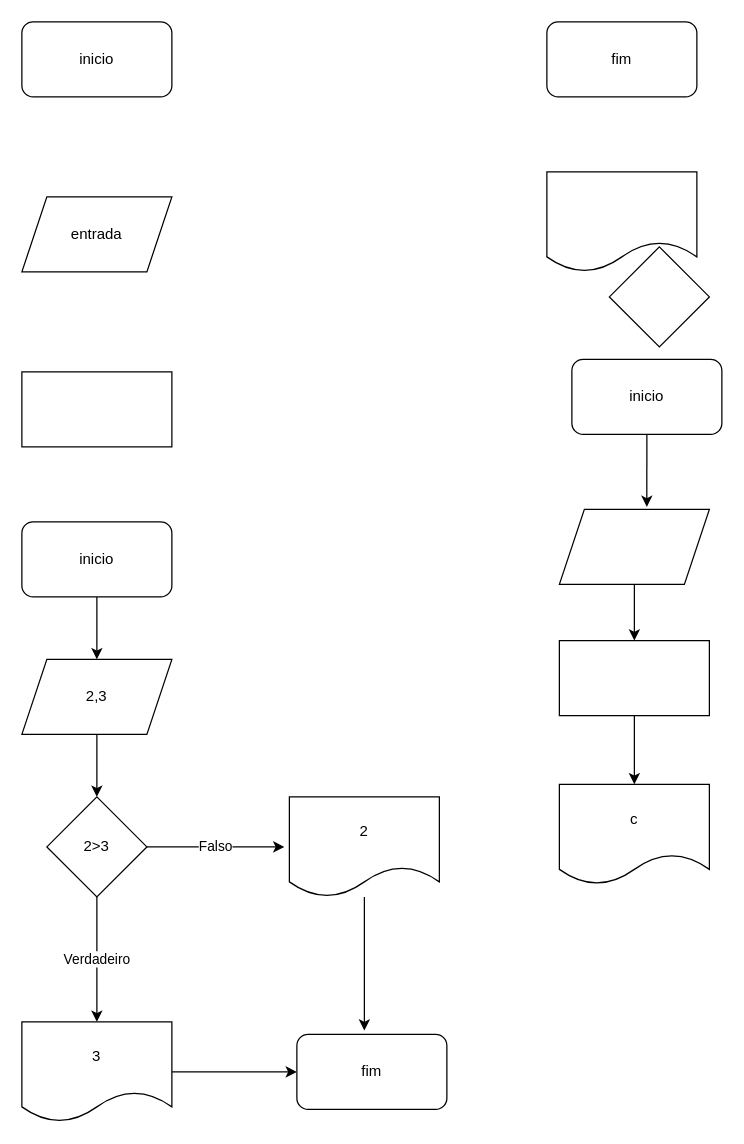
The diagram is 744 pixels wide and 1144 high, and some of its shapes have lost their labels. Each missing label, with the box of its shape:
a b: (558, 508, 709, 584)
a=b: (558, 639, 709, 716)
decisao: (608, 246, 709, 347)
processamento: (21, 371, 172, 447)
saida: (546, 171, 697, 272)
